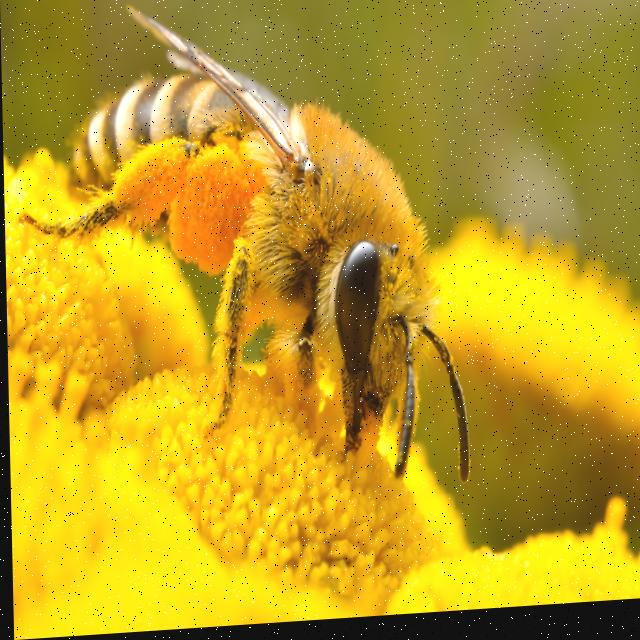Apis-mellifera-scutellata: (32, 0, 515, 510)
